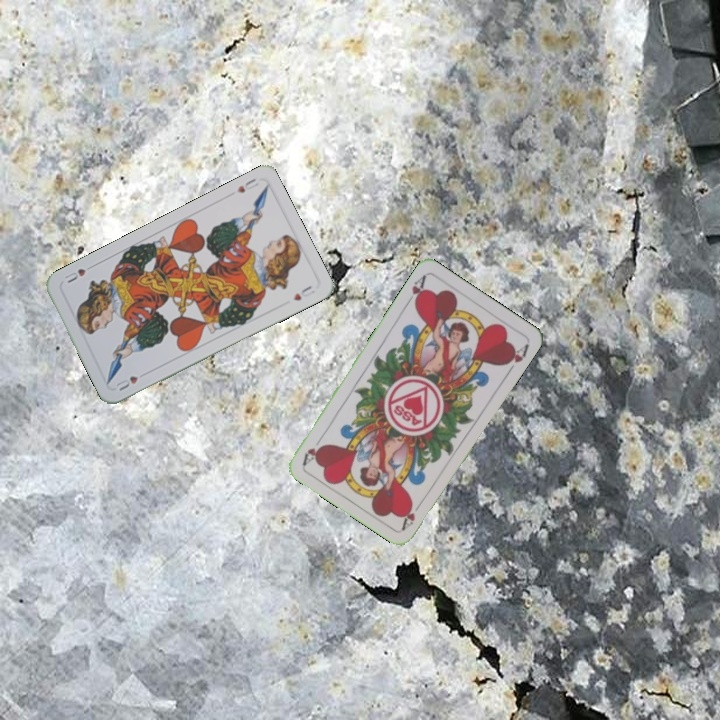HA: (397, 496, 426, 532), (402, 271, 428, 309)
HU: (111, 372, 141, 393), (233, 174, 261, 195)
